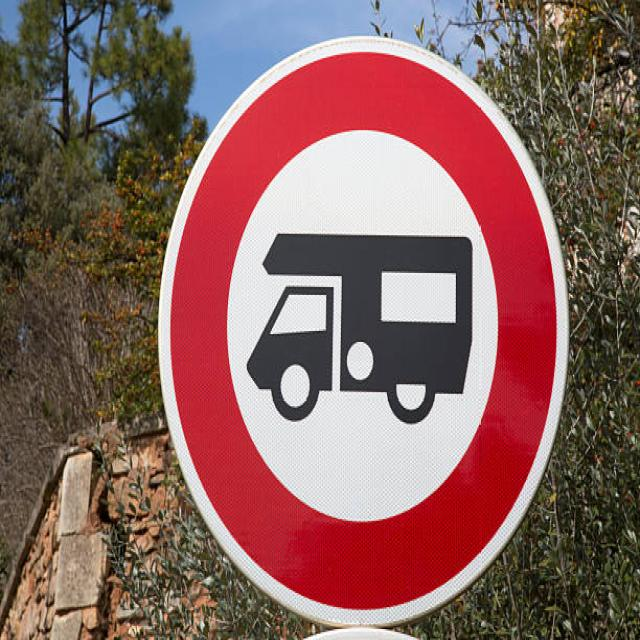do_not_enter: (151, 28, 576, 624)
